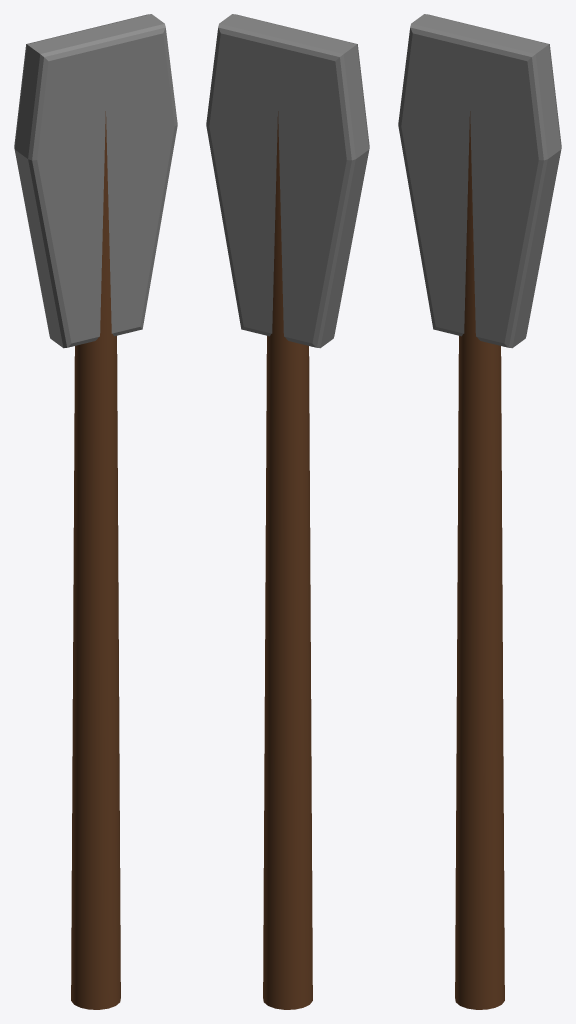
Rendered from stone_shovel.glb.
3 renders of one model, left to right at view 1: azimuth 30°, elevation 25°; view 2: azimuth 150°, elevation 25°; view 3: azimuth 330°, elevation 25°, orthographic.
Parts seen in each view (by area): view 1: blade, handle; view 2: blade, handle; view 3: blade, handle.
Part boxes in pixels (x1=…): blade: x1=14, y1=14, x2=177, y2=348; handle: x1=71, y1=111, x2=120, y2=1009; blade: x1=206, y1=14, x2=369, y2=348; handle: x1=263, y1=111, x2=312, y2=1009; blade: x1=398, y1=14, x2=561, y2=348; handle: x1=455, y1=111, x2=504, y2=1009.
Bounding box in the file's own units: 0.1301 × 0.805 × 0.038.
